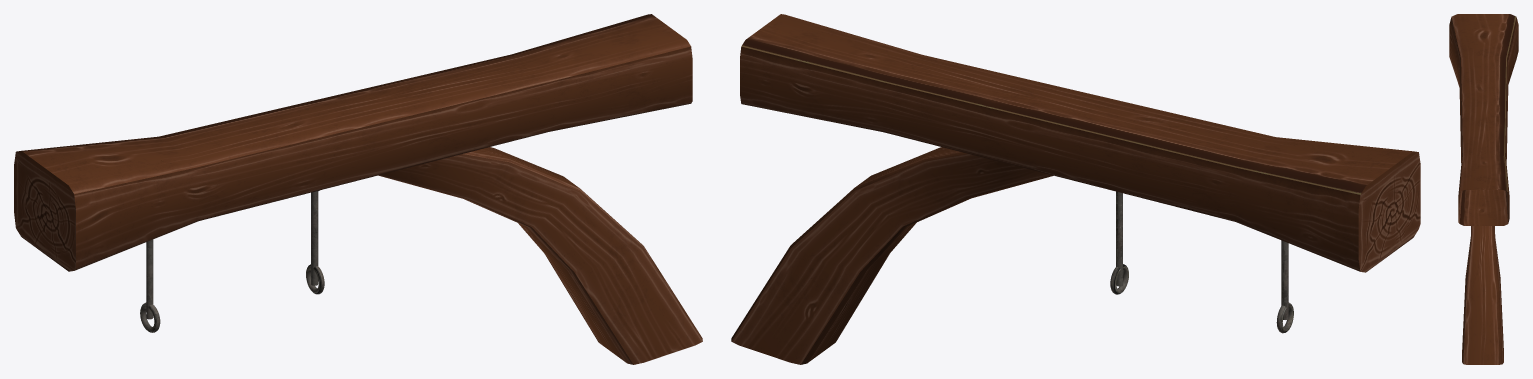
File: SM_SignHandle.fbx
3 views of the same model, side by side, from view 1: azimuth 30°, elevation 25°; view 2: azimuth 150°, elevation 25°; view 3: azimuth 270°, elevation 25° (orthographic). The views are drawn at different scales.
Visible parts, largest first — view 1: SM_SignHandle_LOD0; view 2: SM_SignHandle_LOD0; view 3: SM_SignHandle_LOD0.
Part boxes in pixels (x1,y1,x2,y2): SM_SignHandle_LOD0: (14,14,702,364); SM_SignHandle_LOD0: (731,14,1420,364); SM_SignHandle_LOD0: (1449,14,1518,364).
Bounding box in the file's own units: 263 × 43.94 × 126.
1 material, 1 textured.
